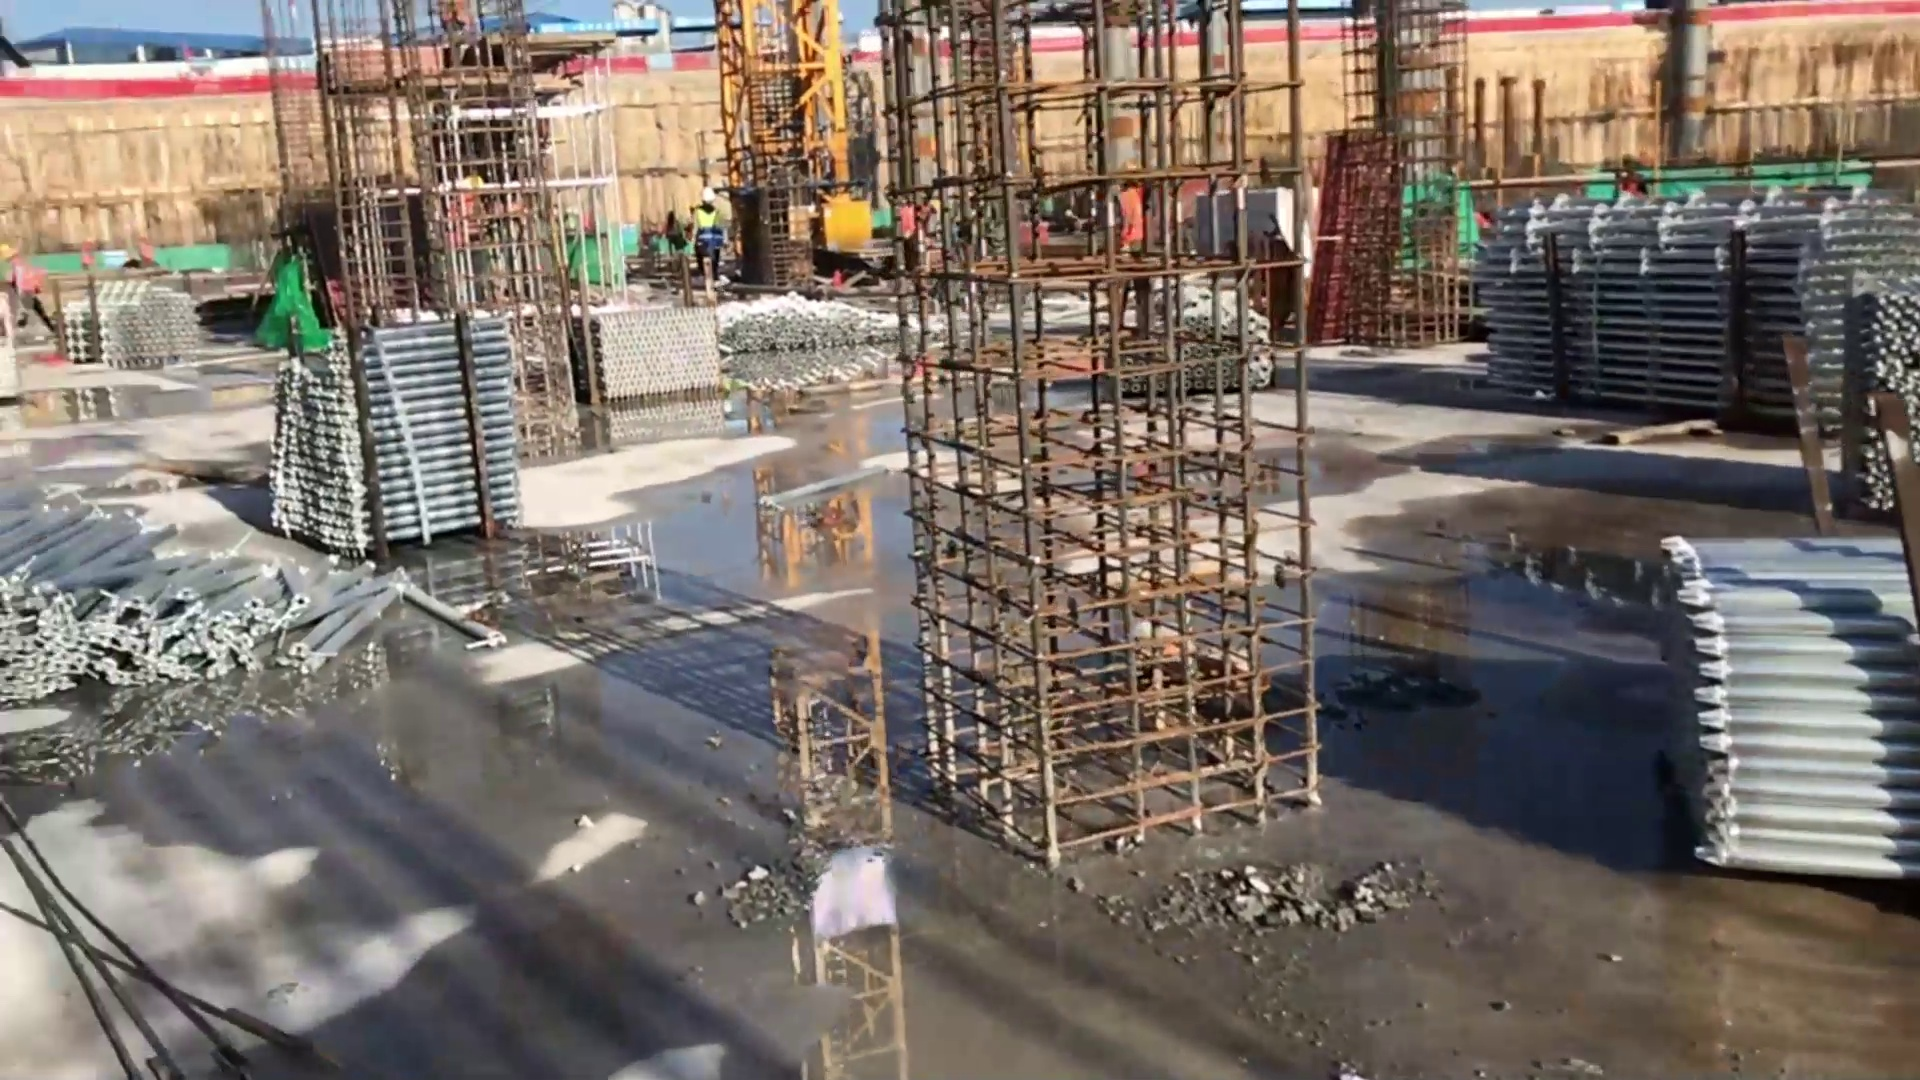helmet: (700, 186, 717, 200)
person: (1, 242, 47, 346), (685, 180, 729, 284)
scaffold: (1468, 198, 1920, 421), (1663, 534, 1920, 880), (5, 481, 362, 672), (271, 345, 521, 540), (595, 307, 733, 394), (724, 294, 894, 346)
